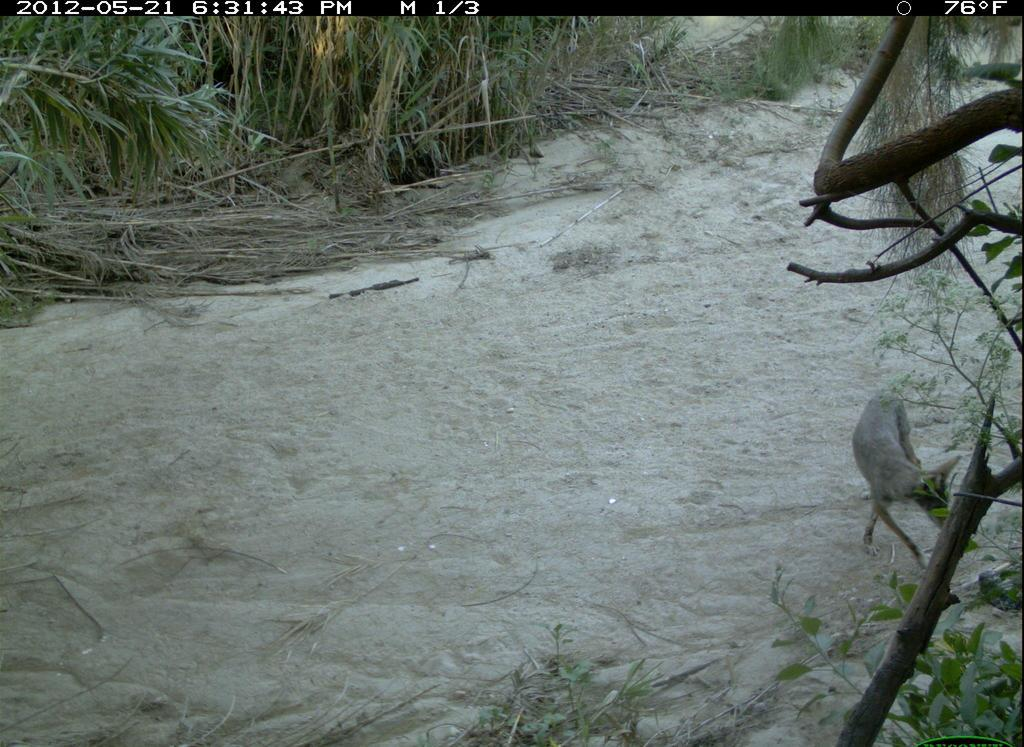coyote: (845, 382, 980, 585)
